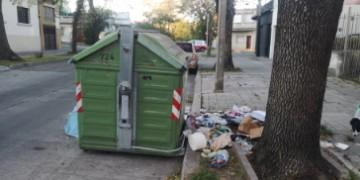Dechets: (189, 106, 265, 166), (238, 111, 264, 138), (65, 105, 77, 138), (188, 132, 205, 149), (320, 138, 334, 150), (336, 139, 349, 151)
Trash: (71, 28, 185, 154)
